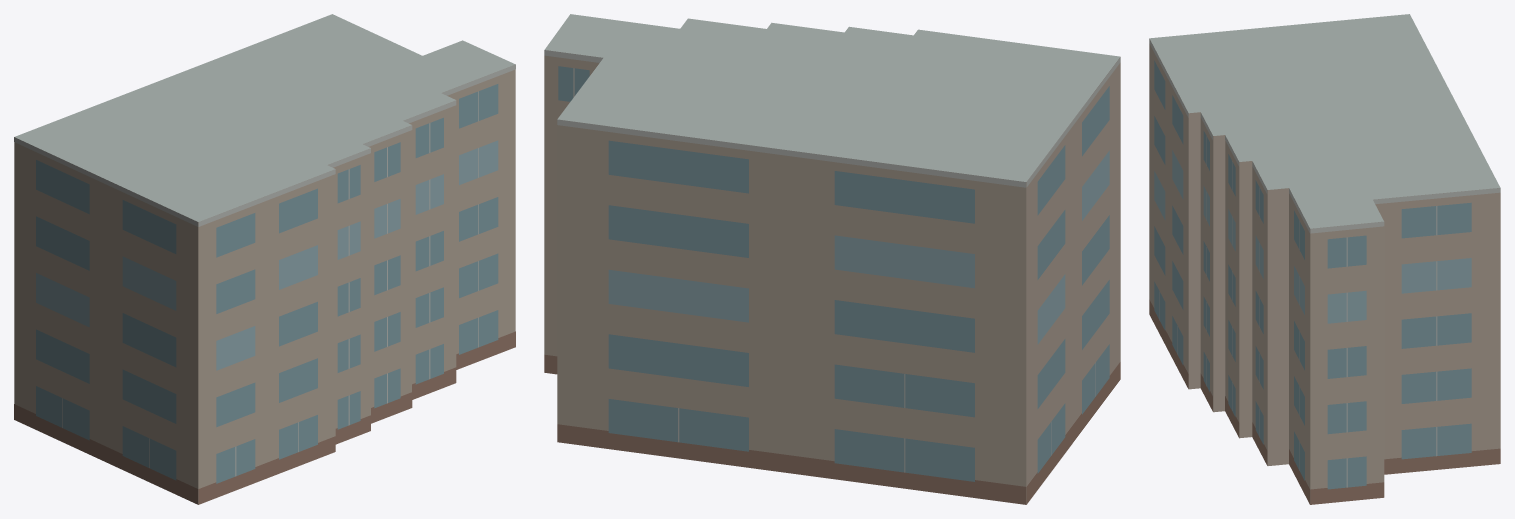
Rendered from survey-upis-32765489.glb.
3 renders of one model, left to right at view 1: azimuth 30°, elevation 25°; view 2: azimuth 150°, elevation 25°; view 3: azimuth 270°, elevation 25°, orthographic. The views are drawn at different scales.
Parts seen in each view (by area): view 1: survey-upis-32765489.tmp; view 2: survey-upis-32765489.tmp; view 3: survey-upis-32765489.tmp.
Boxes of the visible parts, <box> form: survey-upis-32765489.tmp: <box>14,14,515,504</box>; survey-upis-32765489.tmp: <box>544,14,1120,504</box>; survey-upis-32765489.tmp: <box>1149,14,1500,504</box>.
Size of the model in its own units: 23.19 by 13.9 by 16.03.
